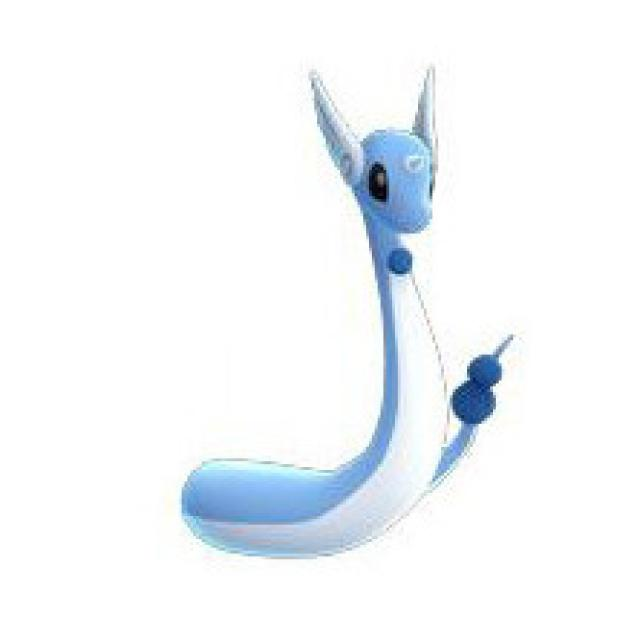Dragonair: (178, 64, 499, 568)
